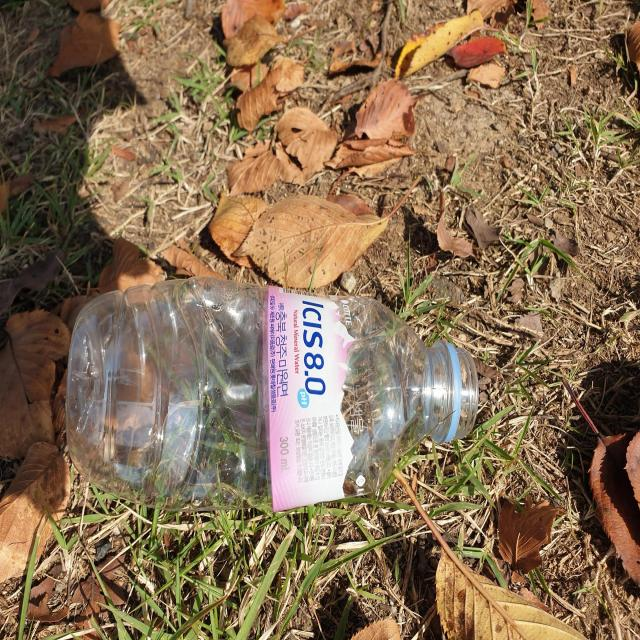plastic: (65, 277, 479, 512)
